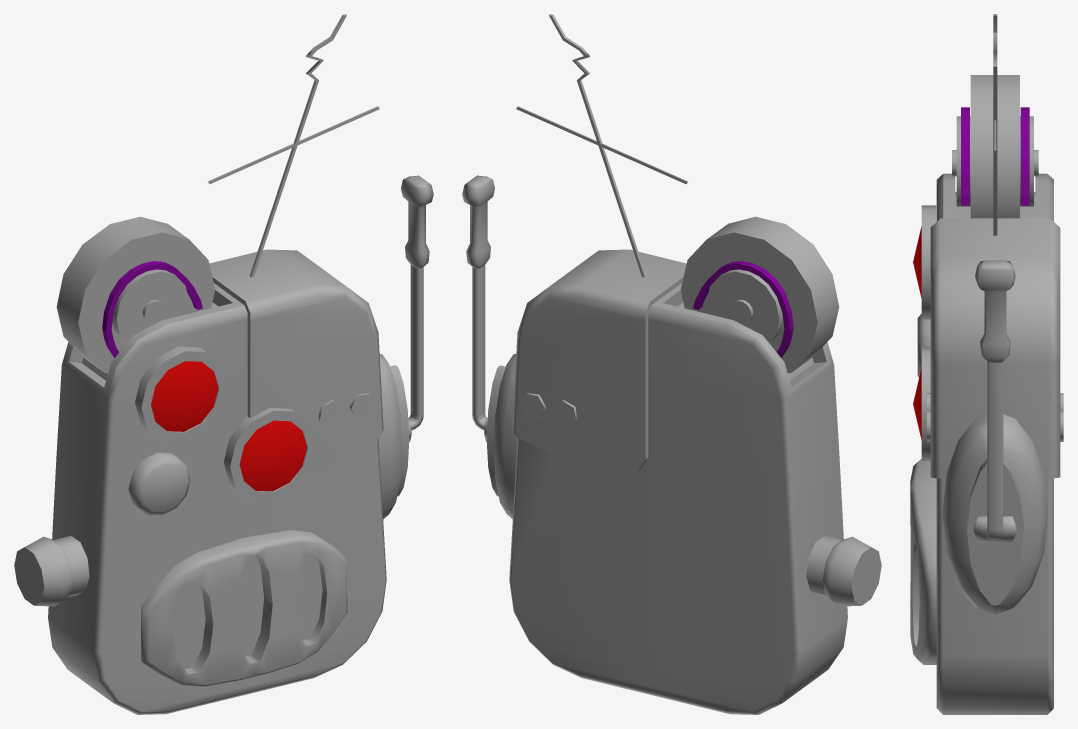
Rendered from Generator.fbx.
3 views of the same model, side by side, from view 1: azimuth 30°, elevation 25°; view 2: azimuth 150°, elevation 25°; view 3: azimuth 270°, elevation 25° (orthographic). The views are drawn at different scales.
Parts seen in each view (by area): view 1: polySurface18, polySurface12, polySurface14, Generator_Lever, polySurface17, polySurface16; view 2: polySurface18, polySurface14, Generator_Lever, polySurface17, polySurface16; view 3: polySurface18, polySurface14, Generator_Lever, polySurface12, polySurface17.
Boxes of the visible parts, x1=… form: polySurface18: x1=14, y1=249, x2=409, y2=714; polySurface12: x1=141, y1=530, x2=347, y2=687; polySurface14: x1=56, y1=216, x2=215, y2=373; Generator_Lever: x1=401, y1=175, x2=433, y2=441; polySurface17: x1=249, y1=14, x2=346, y2=277; polySurface16: x1=208, y1=106, x2=379, y2=183; polySurface18: x1=486, y1=249, x2=881, y2=714; polySurface14: x1=680, y1=216, x2=839, y2=373; Generator_Lever: x1=462, y1=175, x2=494, y2=441; polySurface17: x1=549, y1=14, x2=646, y2=277; polySurface16: x1=516, y1=106, x2=687, y2=183; polySurface18: x1=913, y1=107, x2=1063, y2=714; polySurface14: x1=952, y1=75, x2=1038, y2=218; Generator_Lever: x1=973, y1=260, x2=1016, y2=542; polySurface12: x1=910, y1=459, x2=936, y2=664; polySurface17: x1=993, y1=14, x2=997, y2=235.
Size of the model in its own units: 161 by 246 by 47.38.
